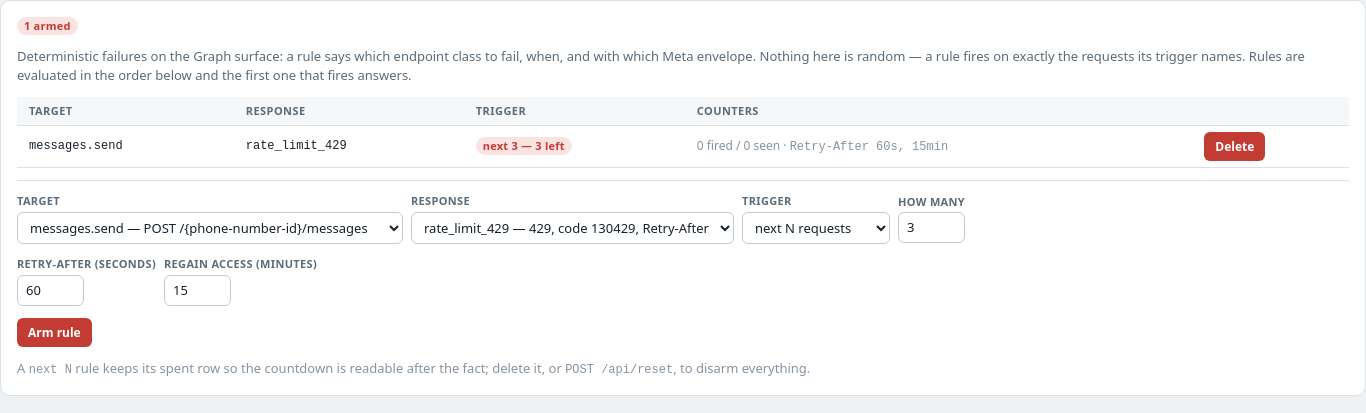
InjectionCard › deletes a rule and drops it from the list
The image size is (1366, 413).
Click the button with aria-label "Delete rule messages.send rate_limit_429" at x=1235, y=146, box [1204,132,1265,161]
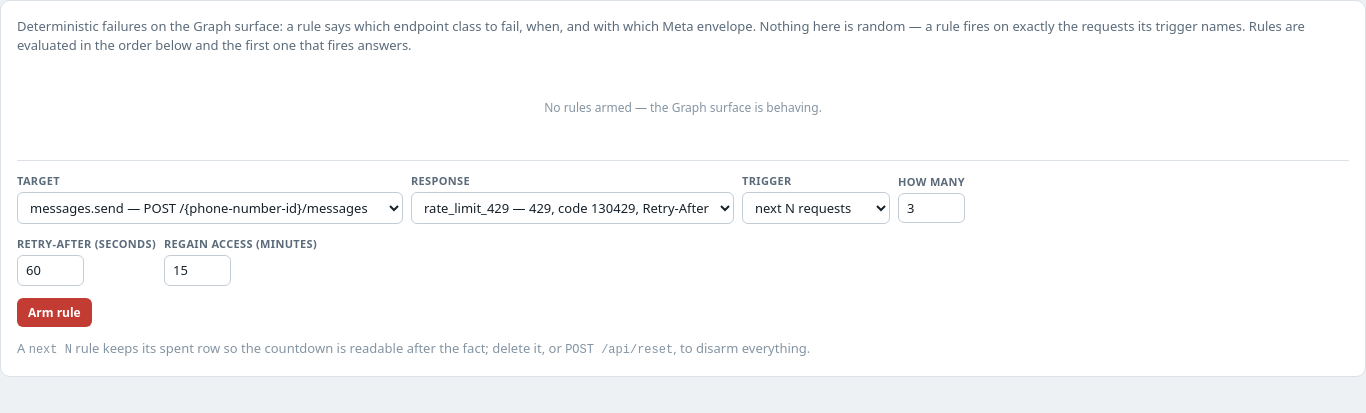
Now the text "No rules armed — the Graph surface is behaving." is shown, box [544,99,822,116]
